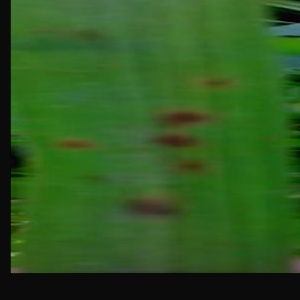Bacterial_Leaf_Blight: (111, 188, 196, 222), (146, 103, 220, 128), (144, 131, 205, 151), (67, 168, 118, 187), (65, 24, 110, 41), (57, 135, 97, 153), (199, 72, 236, 90), (171, 158, 208, 175)
